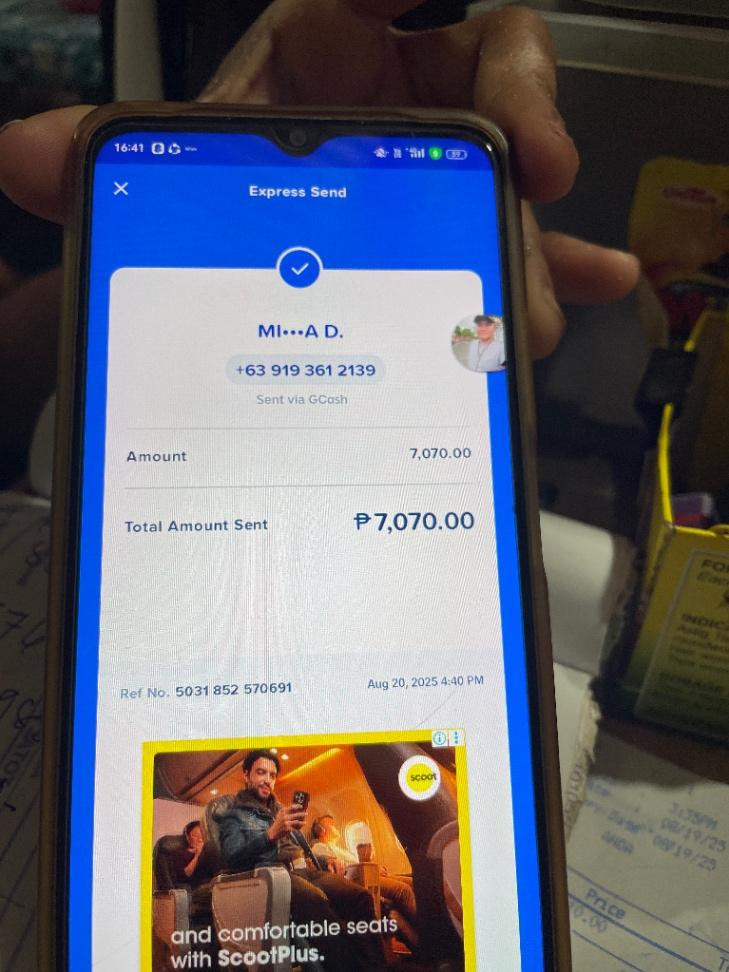Receipt: (70, 164, 541, 971)
